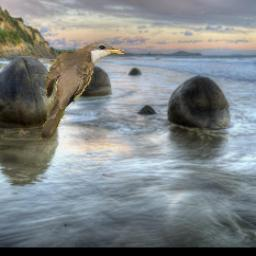Cuckoo: (38, 42, 124, 140)
